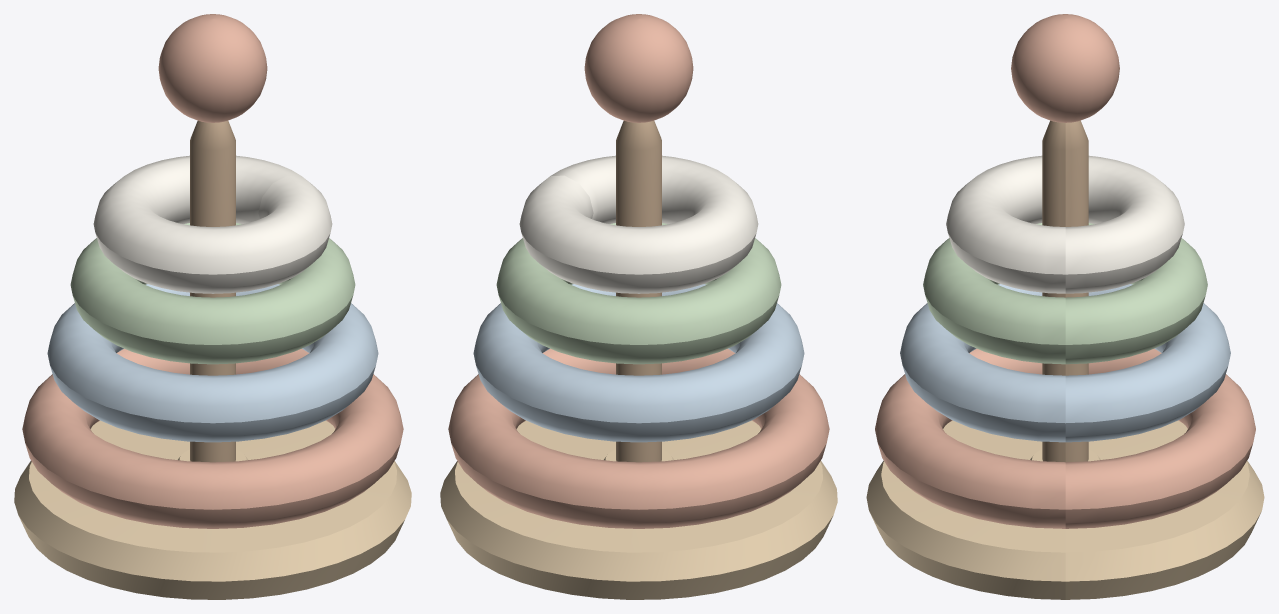
File: jelly-friends-playroom-stacking-rings-toy-877c426b__27638.glb
The picture shows the model from 3 angles, left to right: view 1: azimuth 30°, elevation 25°; view 2: azimuth 150°, elevation 25°; view 3: azimuth 270°, elevation 25°; orthographic projection.
Visible parts, largest first — view 1: stacking-rings-toy; view 2: stacking-rings-toy; view 3: stacking-rings-toy.
Part boxes in pixels (bbox=[...]): stacking-rings-toy: bbox=[14, 14, 411, 599]; stacking-rings-toy: bbox=[440, 14, 837, 599]; stacking-rings-toy: bbox=[866, 14, 1264, 599].
Size of the model in its own units: 0.19 by 0.264 by 0.19.
